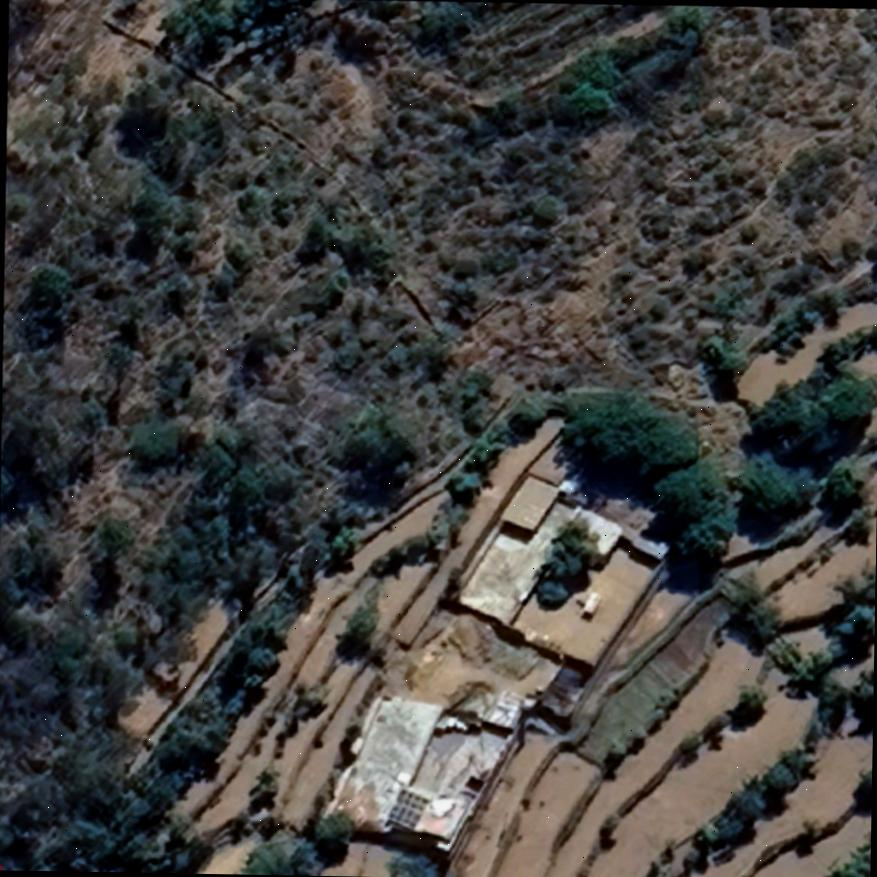Solarpanel: (382, 786, 429, 831)
